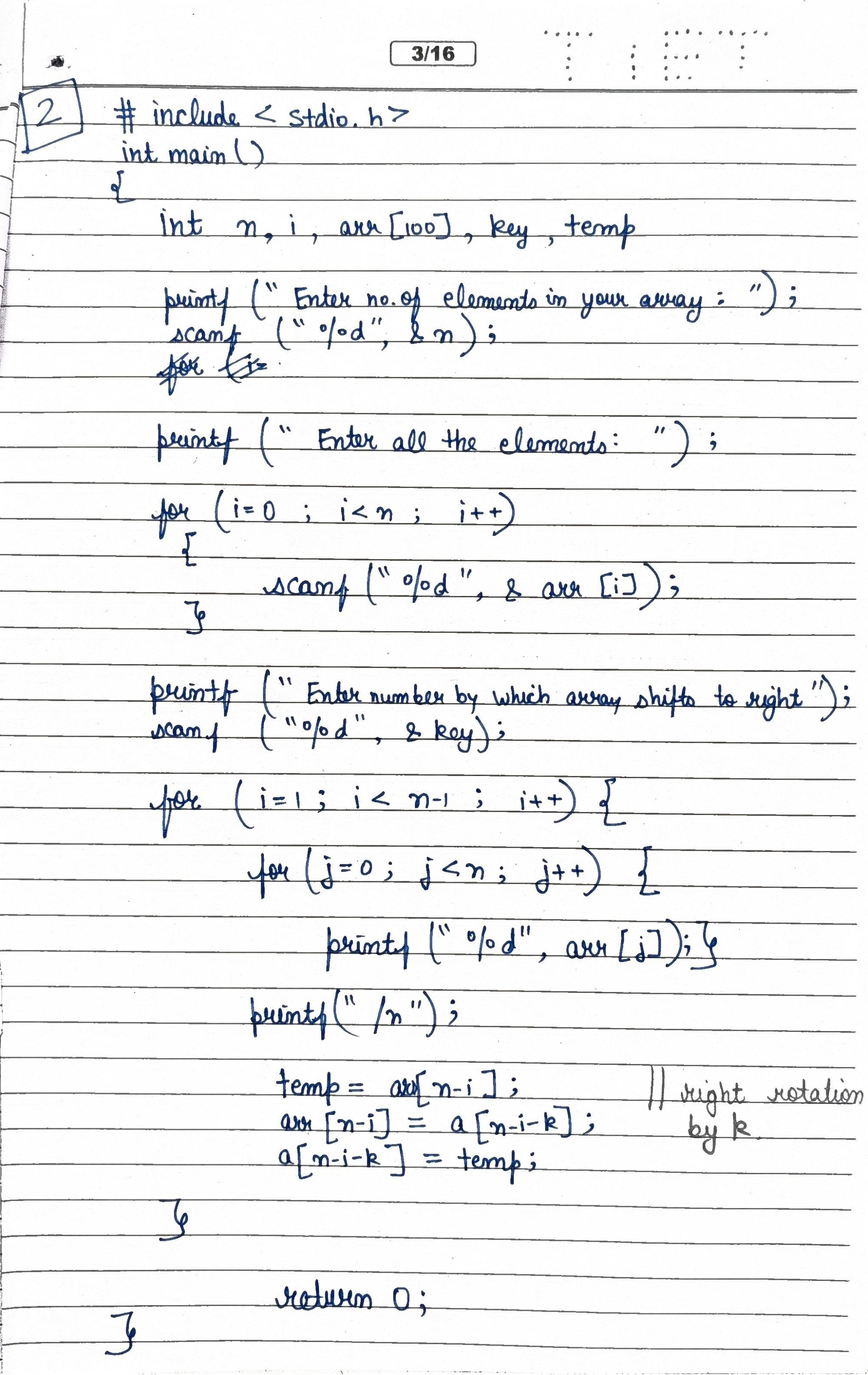cuttings: (154, 346, 269, 398)
